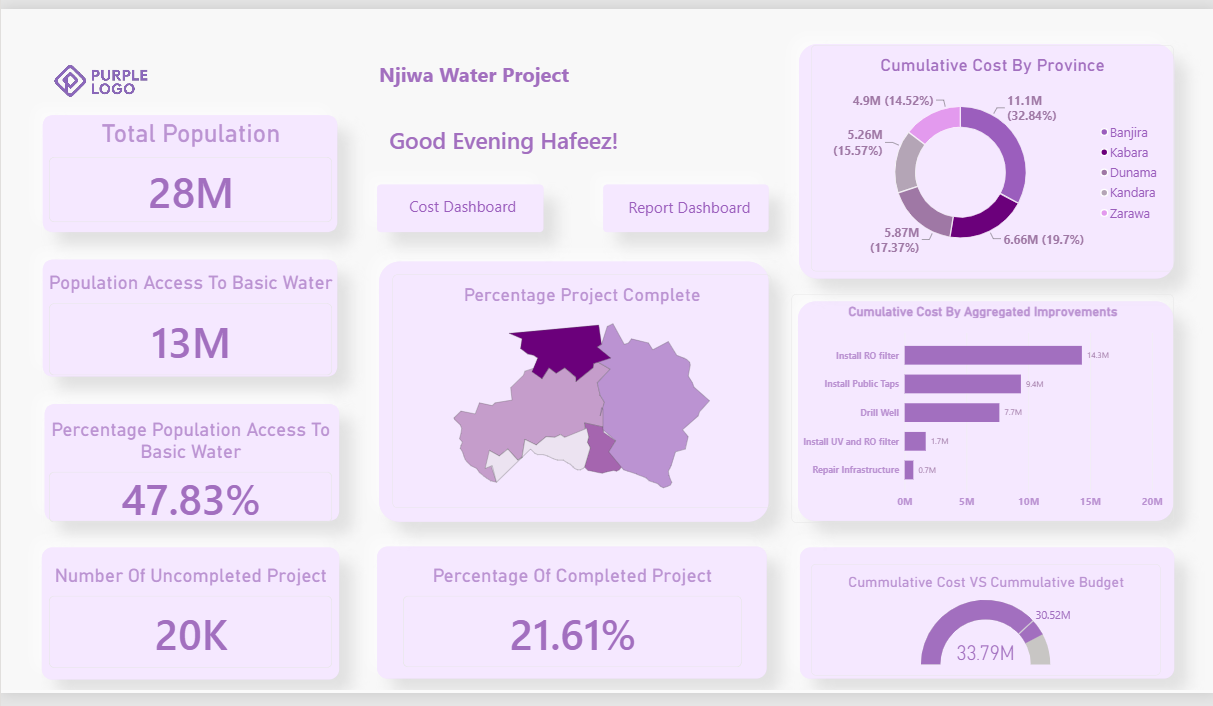

What the dashboard file says about the page in this screenshot:
{"tool":"powerbi","page":{"name":"Page 1","canvas":[1920,1080],"ordinal":0},"visuals":[{"type":"cardVisual","title":"Total Population","fields":{"Data":["Measures Table.total_population"]},"box":[76.5,172.9,447.9,164.4],"z":0},{"type":"cardVisual","title":"Population Access To Basic Water","fields":{"Data":["Measures Table.total_population_basic"]},"box":[76.5,413.9,447.9,164.4],"z":1000},{"type":"cardVisual","title":"Percentage Population Access To Basic Water","fields":{"Data":["Measures Table.pct_population_basic"]},"box":[76.5,646.3,447.9,164.4],"z":2000},{"type":"cardVisual","title":"Number Of Uncompleted Project","fields":{"Data":["Measures Table.incompleted_project"]},"box":[76.5,875.9,447.9,164.4],"z":3000},{"type":"cardVisual","title":"Percentage Of Completed Project","fields":{"Data":["Measures Table.pct_project_complete"]},"box":[634.7,876.3,535.3,163.4],"z":4000},{"type":"gauge","title":"Cummulative Cost VS Cummulative Budget","fields":{"TargetValue":["Measures Table.cumulative_budget"],"Y":["Measures Table.cumulative_cost"]},"box":[1278.4,875.9,552,176],"z":5000},{"type":"clusteredBarChart","title":"Cumulative Cost By Aggregated Improvements","fields":{"Category":["project_progress.Aggregated_improvements"],"Y":["Measures Table.cumulative_cost"]},"box":[1247.1,449.9,603.6,361.6],"z":6000},{"type":"donutChart","title":"Cumulative Cost By Province","fields":{"Category":["location.province"],"Y":["Measures Table.cumulative_cost"]},"box":[1278.4,56.7,572.6,357.2],"z":7000},{"type":"shapeMap","title":"Percentage Project Complete","fields":{"Category":["location.province"],"Value":["Measures Table.pct_project_complete"]},"box":[618,419.5,598.1,368.5],"z":7001},{"type":"shape","box":[617.9,281.9,222.1,56.9],"z":7002},{"type":"shape","box":[959.5,281.9,256.3,59.8],"z":7003},{"type":"cardVisual","fields":{"Data":["Measures Table.GreetingMeasure"]},"box":[596.8,156.3,464.2,99.5],"z":7004},{"type":"textbox","box":[596.8,80.5,618.2,92.4],"z":7005},{"type":"image","box":[78.2,23.7,161.1,182.4],"z":7006}]}

Visuals, with their boxes on the page's 1920x1080 design canvas (x1, y1, x2, y2). These are canvas units, not pixel positions in the 1213x706 screenshot, which may show the page scaled, cropped or inside an application window:
"Total Population" cardVisual: [left=76, top=173, right=524, bottom=337]
"Population Access To Basic Water" cardVisual: [left=76, top=414, right=524, bottom=578]
"Percentage Population Access To Basic Water" cardVisual: [left=76, top=646, right=524, bottom=811]
"Number Of Uncompleted Project" cardVisual: [left=76, top=876, right=524, bottom=1040]
"Percentage Of Completed Project" cardVisual: [left=635, top=876, right=1170, bottom=1040]
"Cummulative Cost VS Cummulative Budget" gauge: [left=1278, top=876, right=1830, bottom=1052]
"Cumulative Cost By Aggregated Improvements" clusteredBarChart: [left=1247, top=450, right=1851, bottom=812]
"Cumulative Cost By Province" donutChart: [left=1278, top=57, right=1851, bottom=414]
"Percentage Project Complete" shapeMap: [left=618, top=420, right=1216, bottom=788]
shape: [left=618, top=282, right=840, bottom=339]
shape: [left=960, top=282, right=1216, bottom=342]
cardVisual - Measures Table.GreetingMeasure: [left=597, top=156, right=1061, bottom=256]
textbox: [left=597, top=80, right=1215, bottom=173]
image: [left=78, top=24, right=239, bottom=206]
